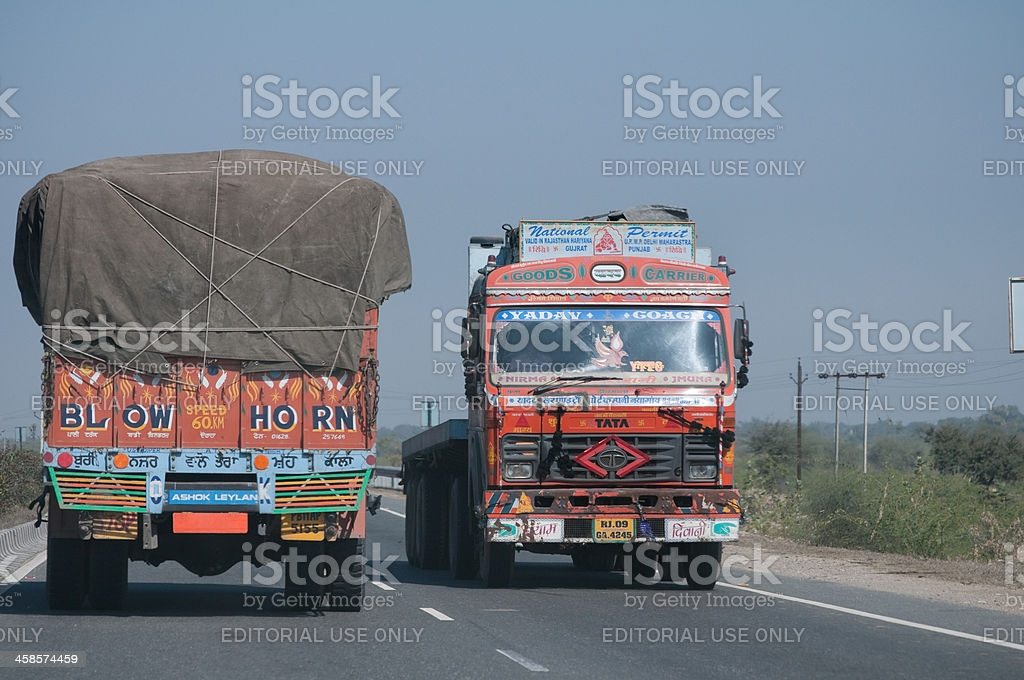truck: (36, 165, 383, 615), (461, 224, 745, 591)
